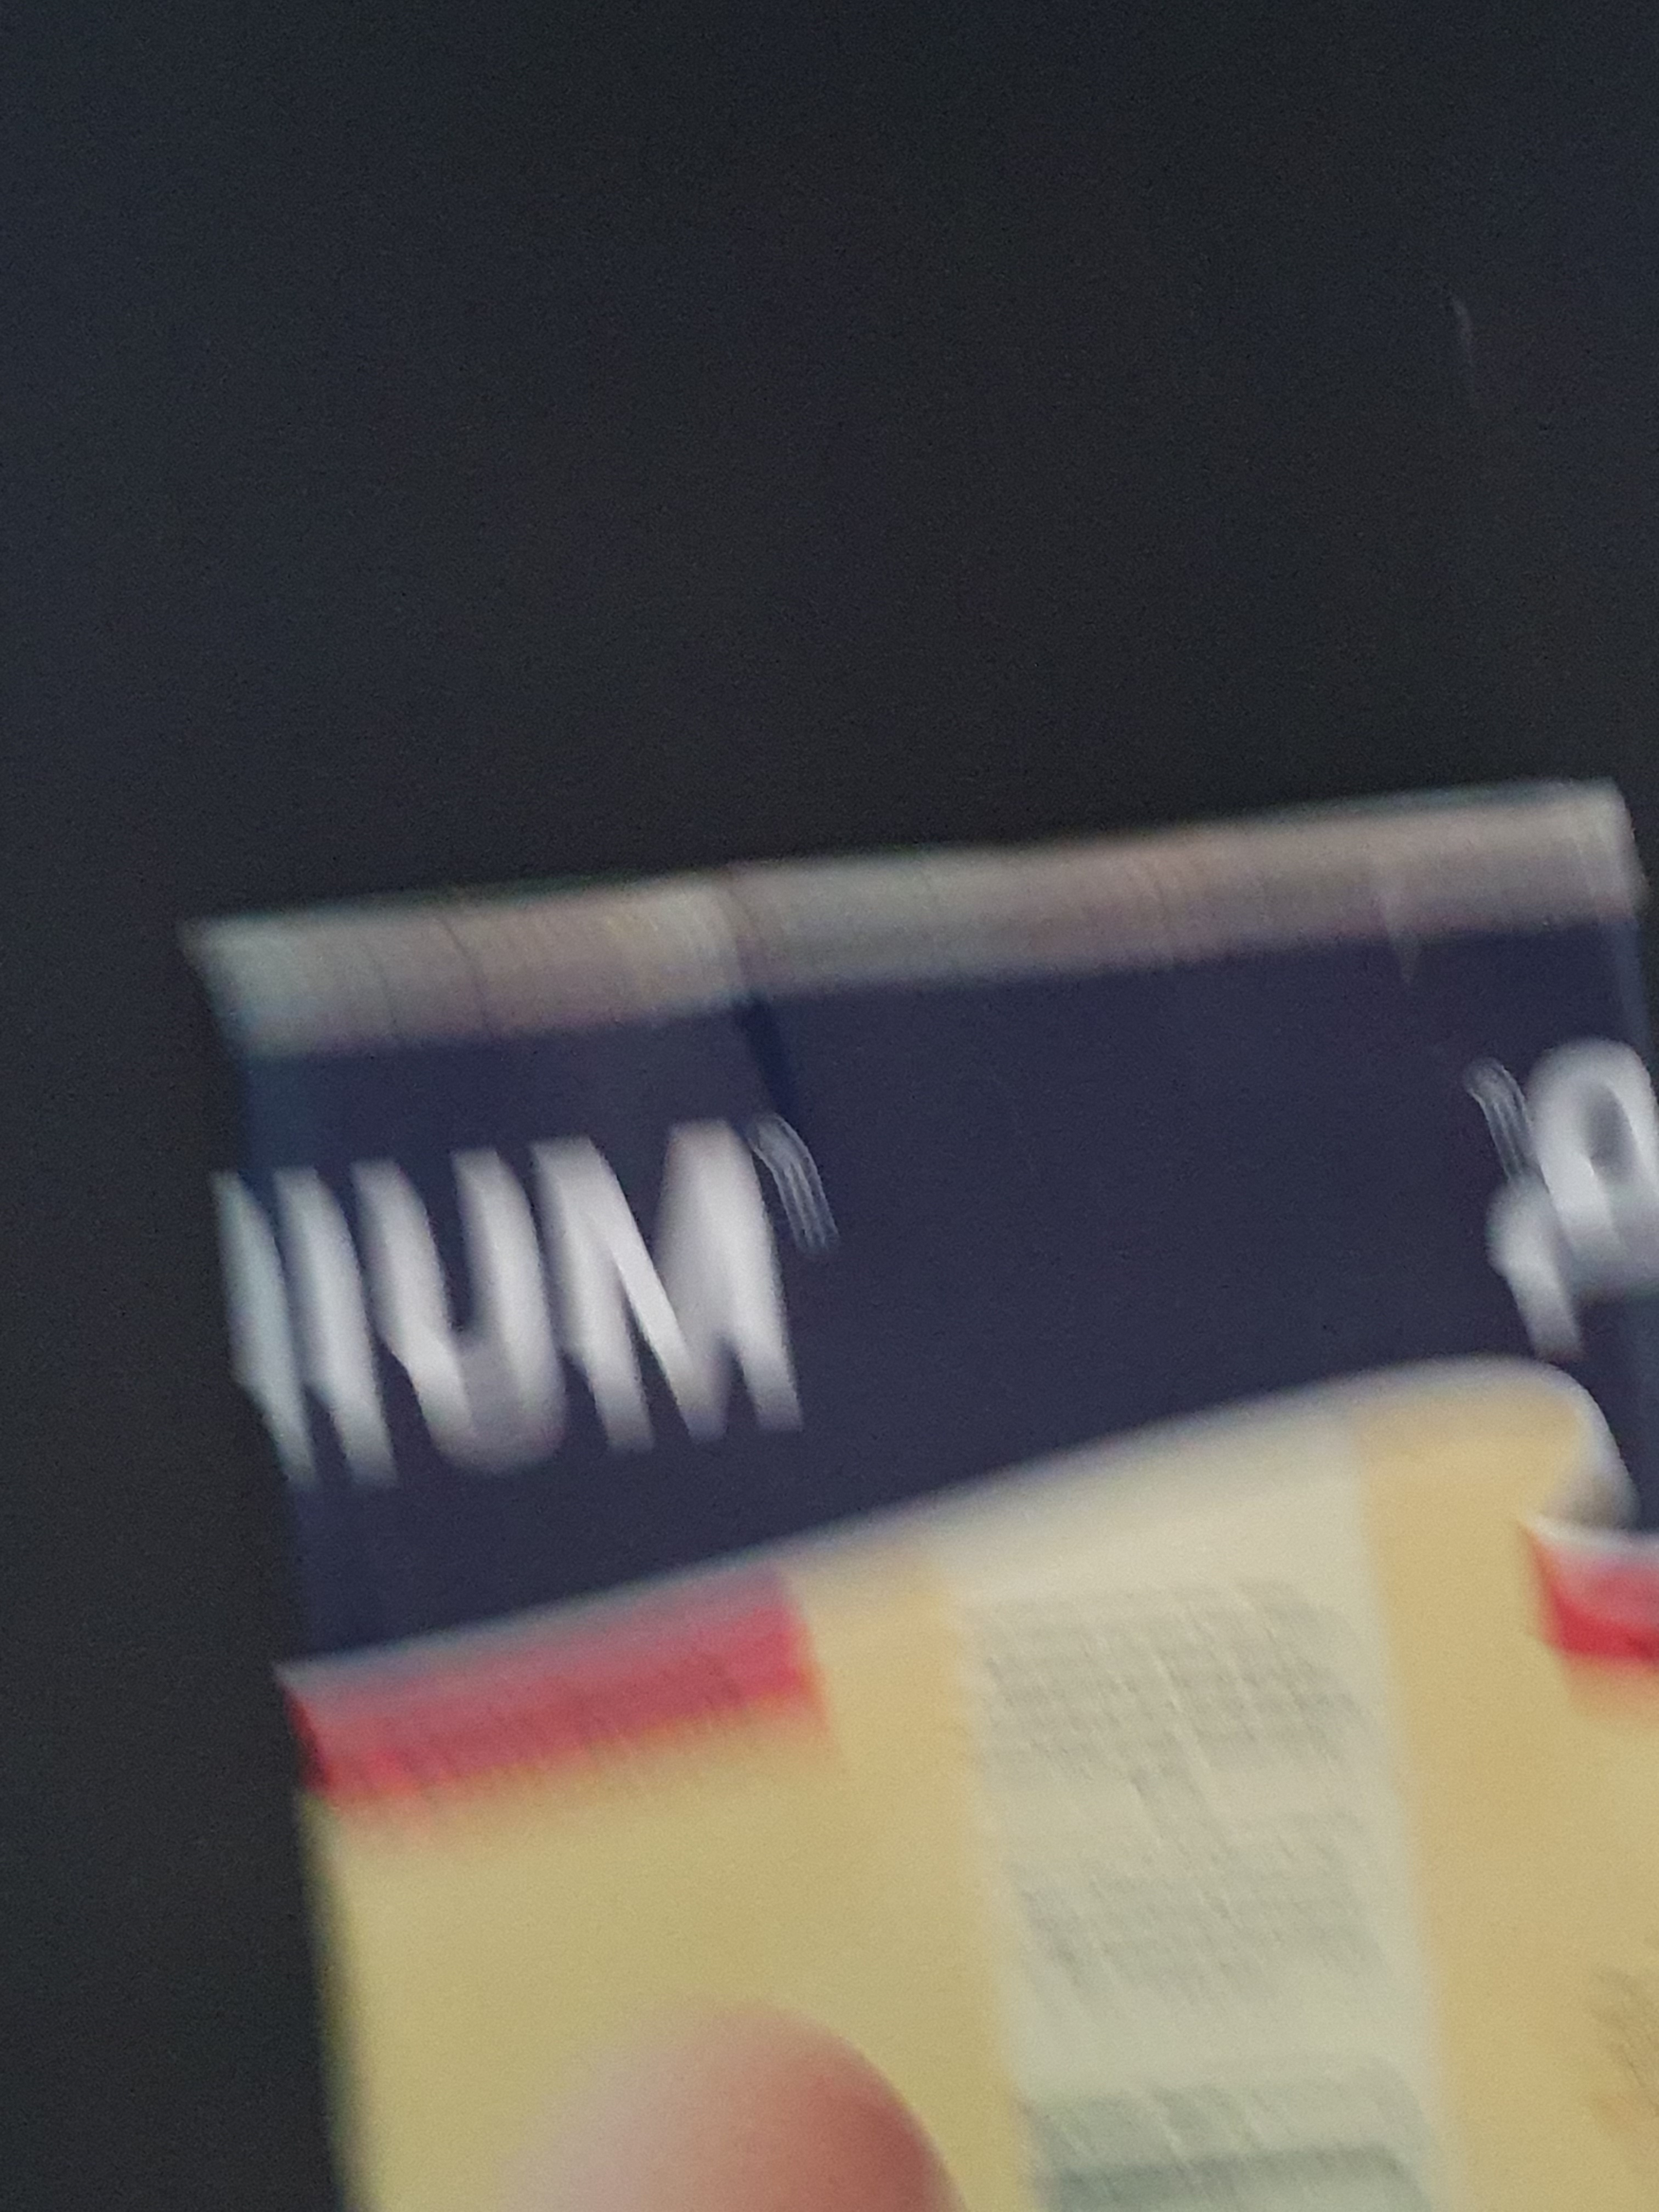metal: (134, 737, 1659, 2212)
